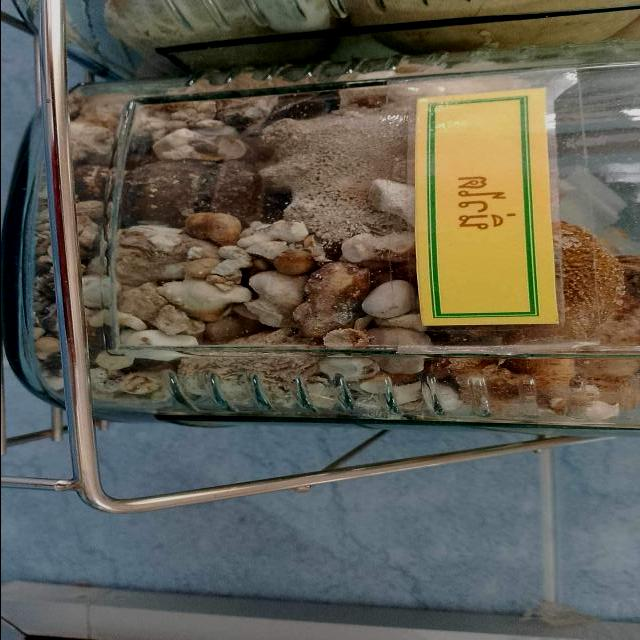General: (29, 46, 637, 430)
